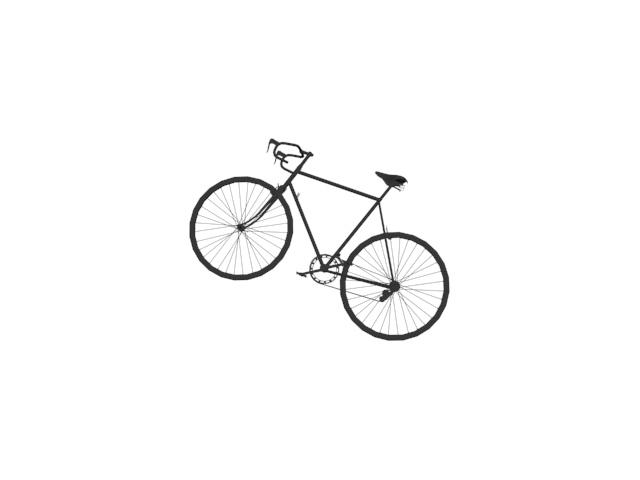bike: (185, 137, 456, 344)
